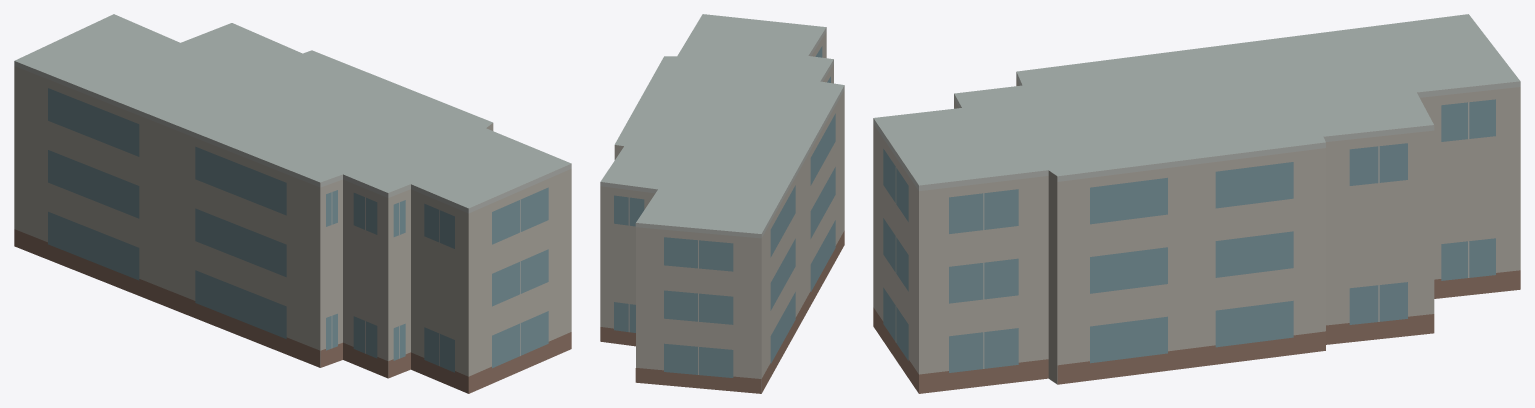
The model's file is survey-upis-32920683.glb.
3 views of the same model, side by side, from view 1: azimuth 30°, elevation 25°; view 2: azimuth 150°, elevation 25°; view 3: azimuth 270°, elevation 25° (orthographic). The views are drawn at different scales.
Visible parts, largest first — view 1: survey-upis-32920683.tmp; view 2: survey-upis-32920683.tmp; view 3: survey-upis-32920683.tmp.
Boxes of the visible parts, x1,y1,x2,y2 form: survey-upis-32920683.tmp: (14, 14, 571, 393); survey-upis-32920683.tmp: (600, 14, 844, 393); survey-upis-32920683.tmp: (873, 14, 1520, 393).
Size of the model in its own units: 15.9 by 9 by 25.35.
